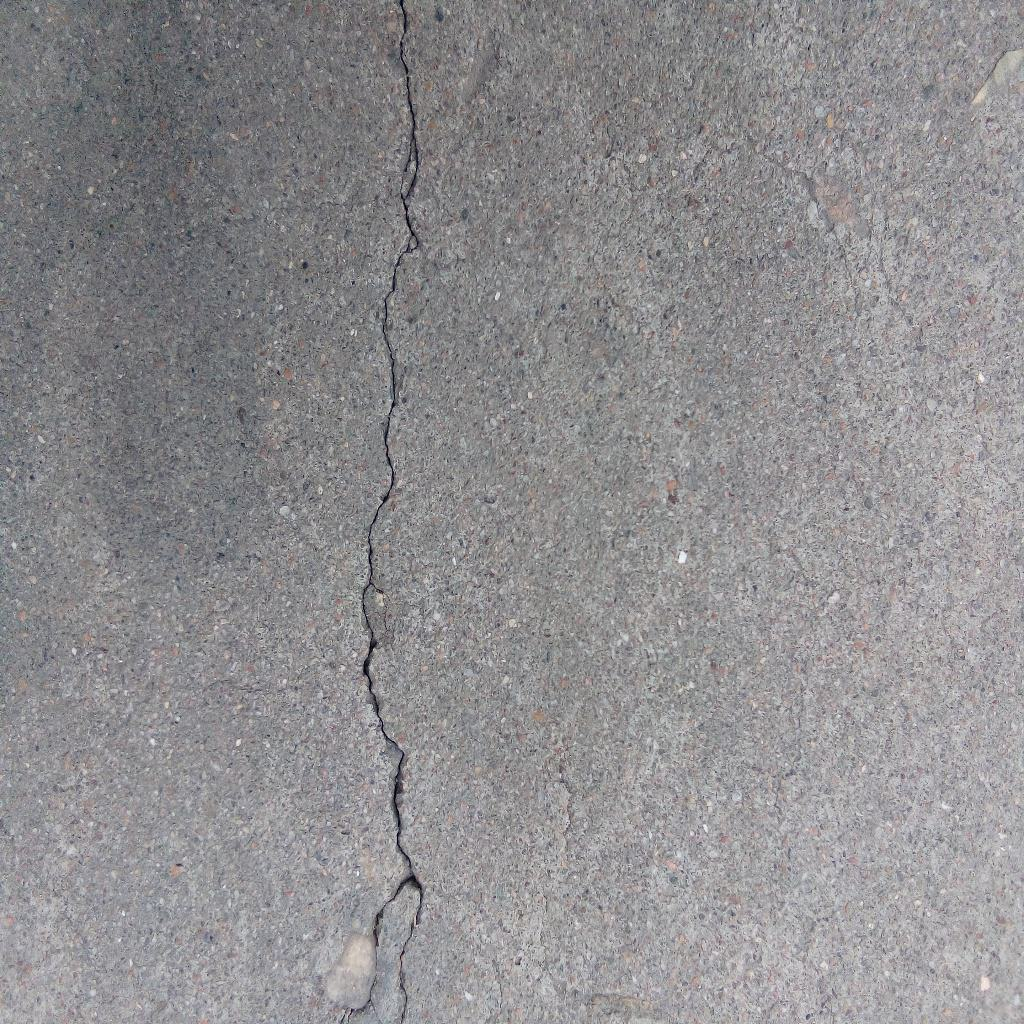Crack: (348, 1, 422, 1024)
